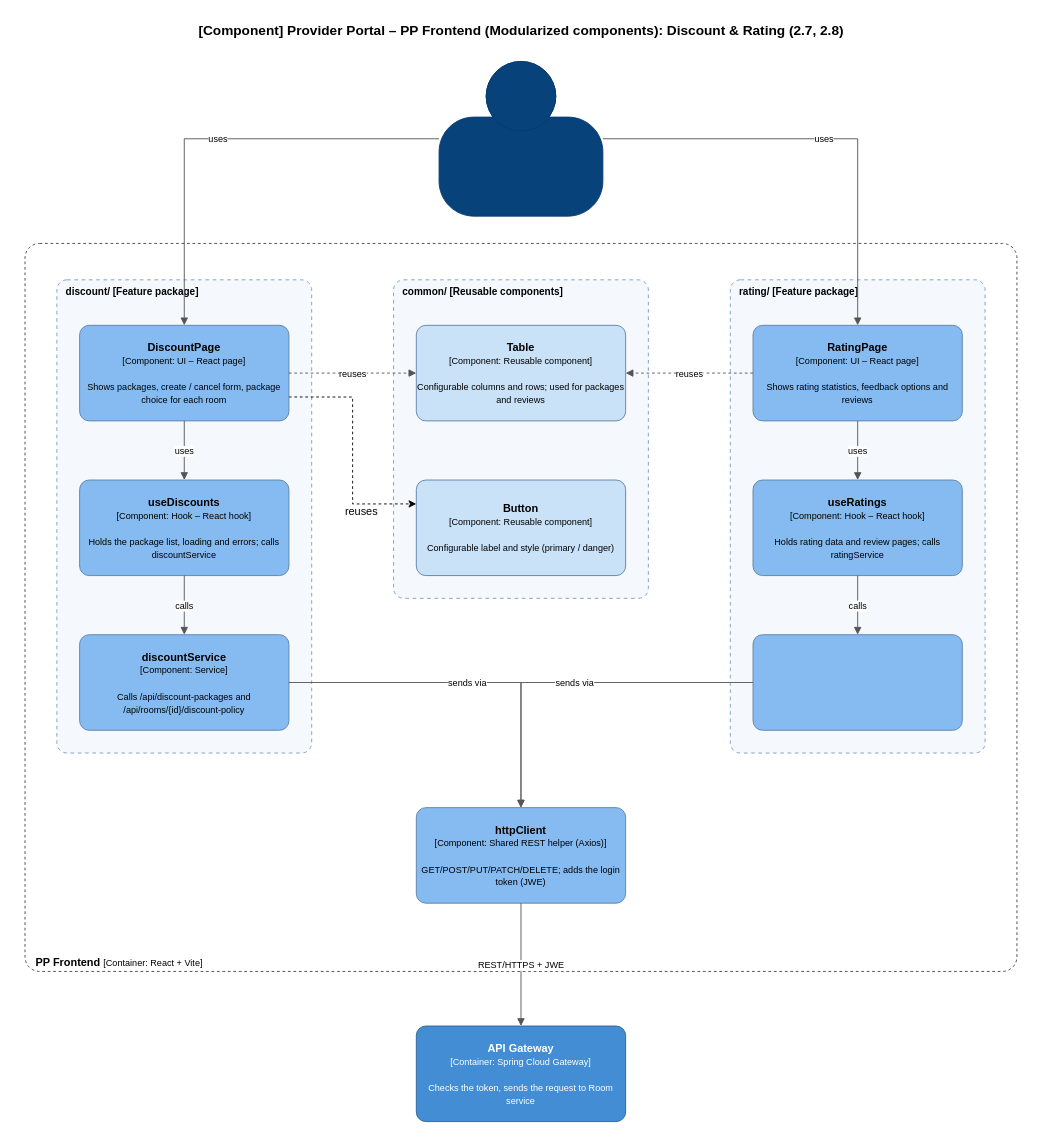
Some shapes in this 1041 by 1138 pixel diagram are drawn without their labels. The shapes that lost their labels are listed below. From the top down, each one's centre as x and y in pixels, then its label:
At point 520,138: "Receptionist [Person] Hotel staff who manage discounts and view ratings".
At point 857,682: "ratingService [Component: Service] Calls GET /api/ratings?cursor=…".
